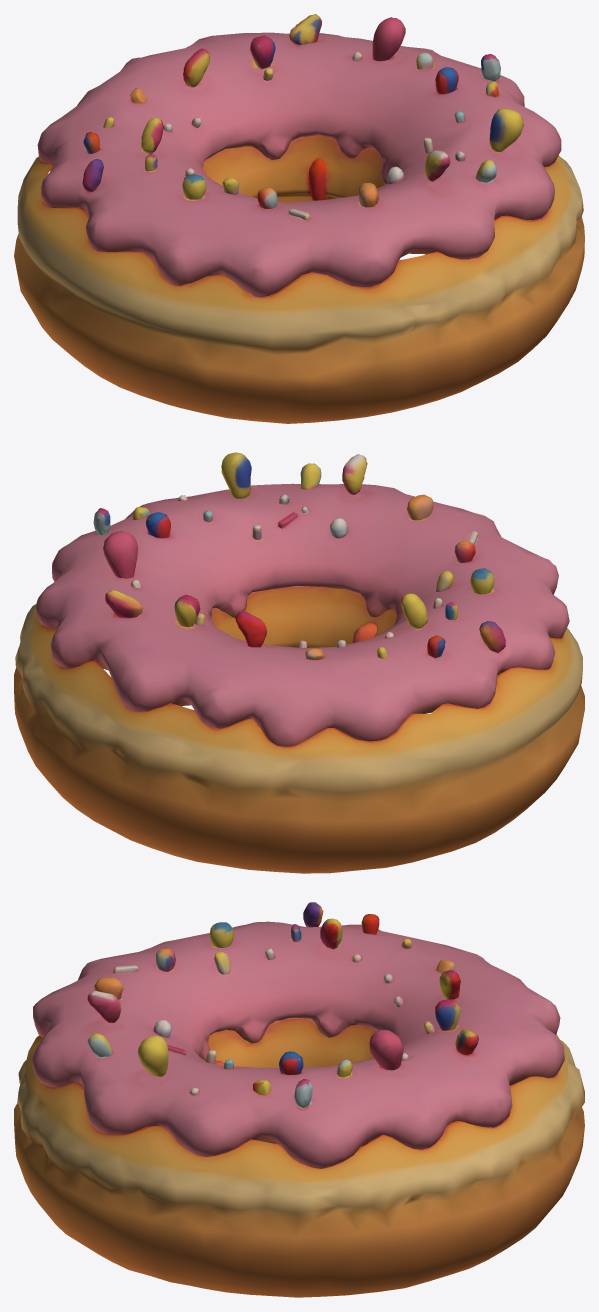
The model's file is r33-donut.glb.
The picture shows the model from 3 angles, top to bottom: view 1: azimuth 30°, elevation 25°; view 2: azimuth 150°, elevation 25°; view 3: azimuth 270°, elevation 25°; orthographic projection.
Visible parts, largest first — view 1: tripo_node_ea458e8d-e77d-49b1-bee4-a6e9f764632e; view 2: tripo_node_ea458e8d-e77d-49b1-bee4-a6e9f764632e; view 3: tripo_node_ea458e8d-e77d-49b1-bee4-a6e9f764632e.
Boxes of the visible parts, x1=… form: tripo_node_ea458e8d-e77d-49b1-bee4-a6e9f764632e: x1=14, y1=14, x2=584, y2=423; tripo_node_ea458e8d-e77d-49b1-bee4-a6e9f764632e: x1=14, y1=452, x2=584, y2=873; tripo_node_ea458e8d-e77d-49b1-bee4-a6e9f764632e: x1=14, y1=902, x2=584, y2=1297.
Bounding box in the file's own units: 0.998 × 0.4902 × 0.998.
Materials: 1 (1 with a texture image).
